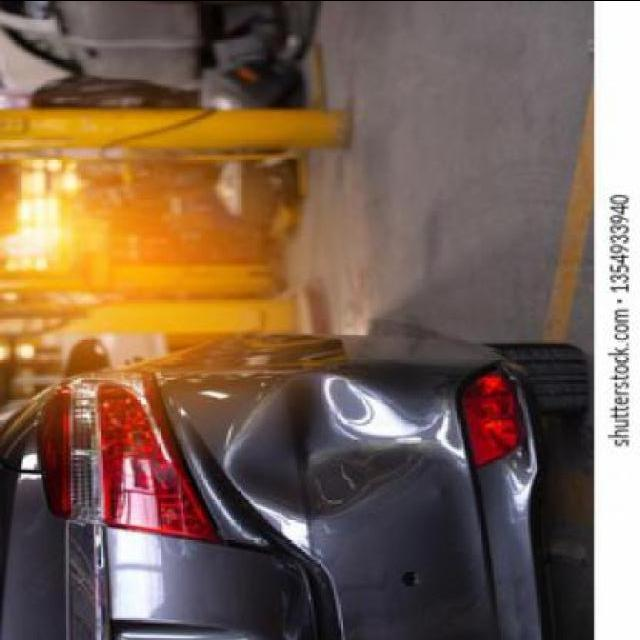rear-bumper-dent: (225, 367, 438, 523)
